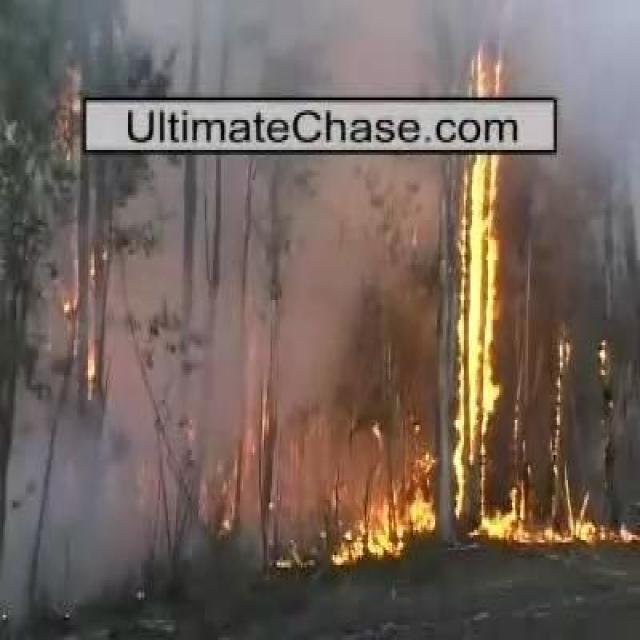Fire: (454, 156, 500, 516), (333, 488, 435, 562), (474, 488, 593, 542)
